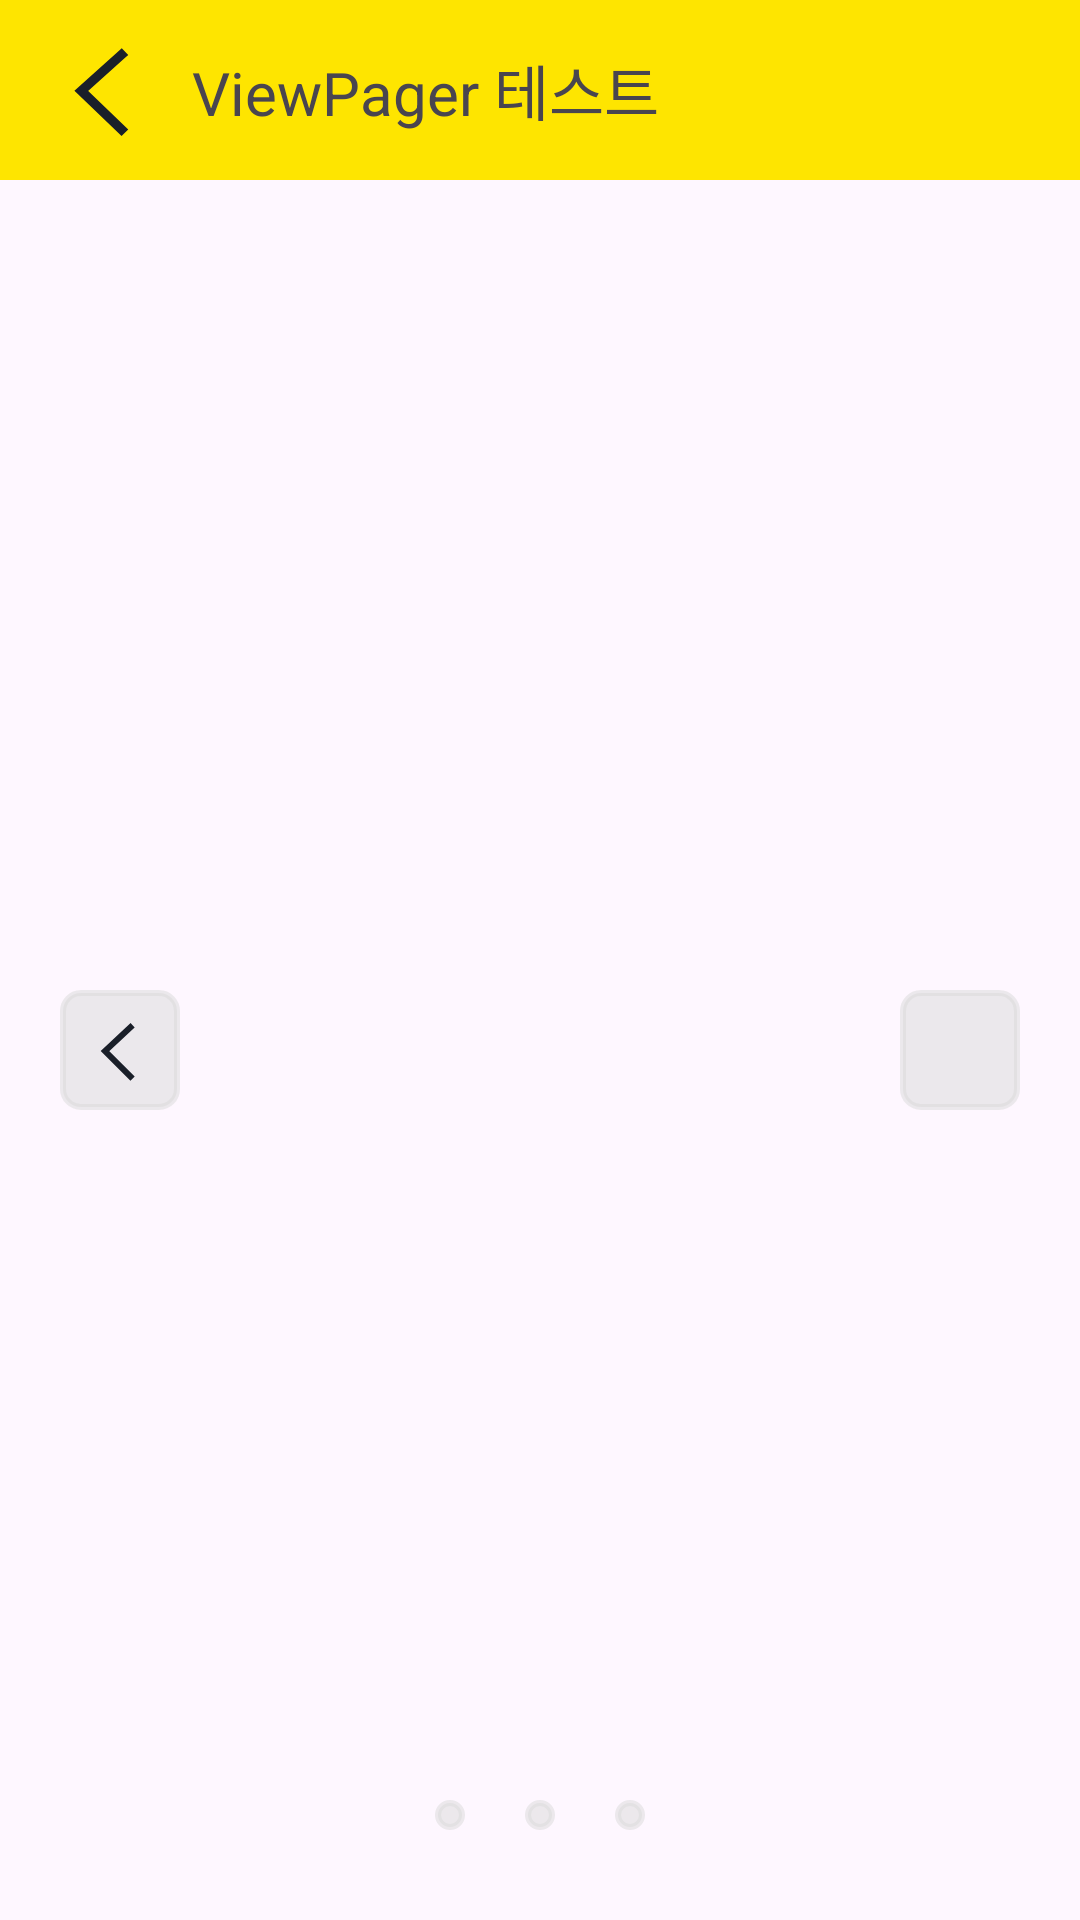

Icons on this 1080x1920 Android screen, each with the point to tap as [x,y]:
뒤로가기: [101,92]
이전 화면 이동: [120,1050]
